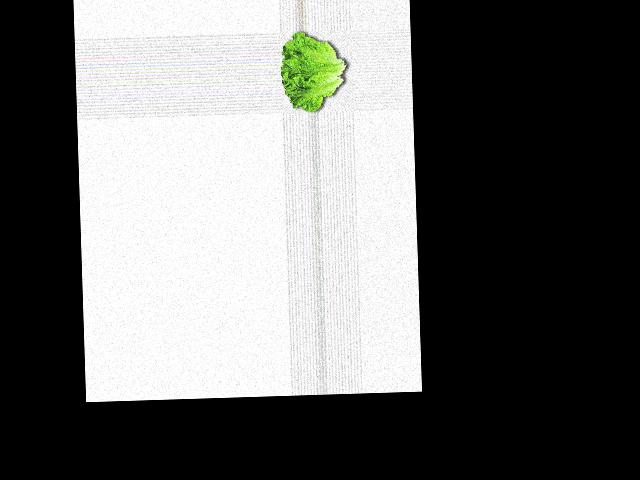lettuce: (280, 32, 349, 114)
